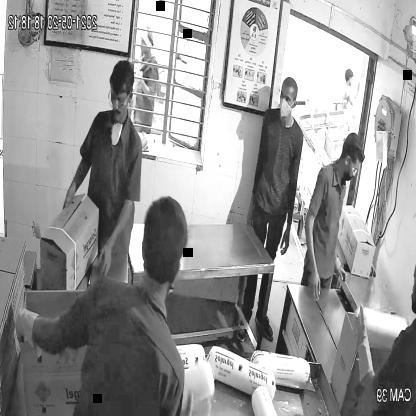goggles: (106, 87, 136, 108), (344, 158, 362, 176)
no_goggles: (277, 92, 299, 106)
